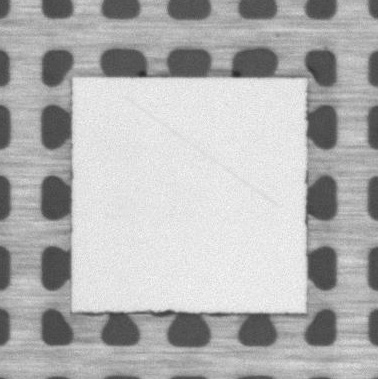DIE_CRACK: (125, 97, 276, 206)
